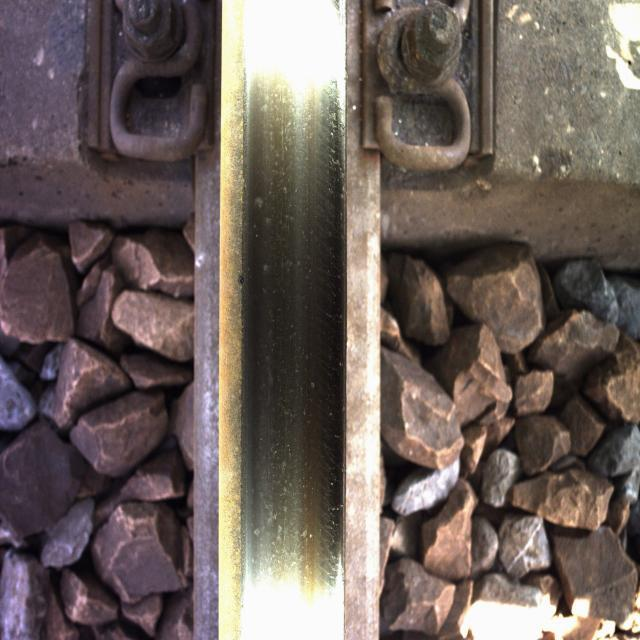normal: (250, 69, 331, 585)
